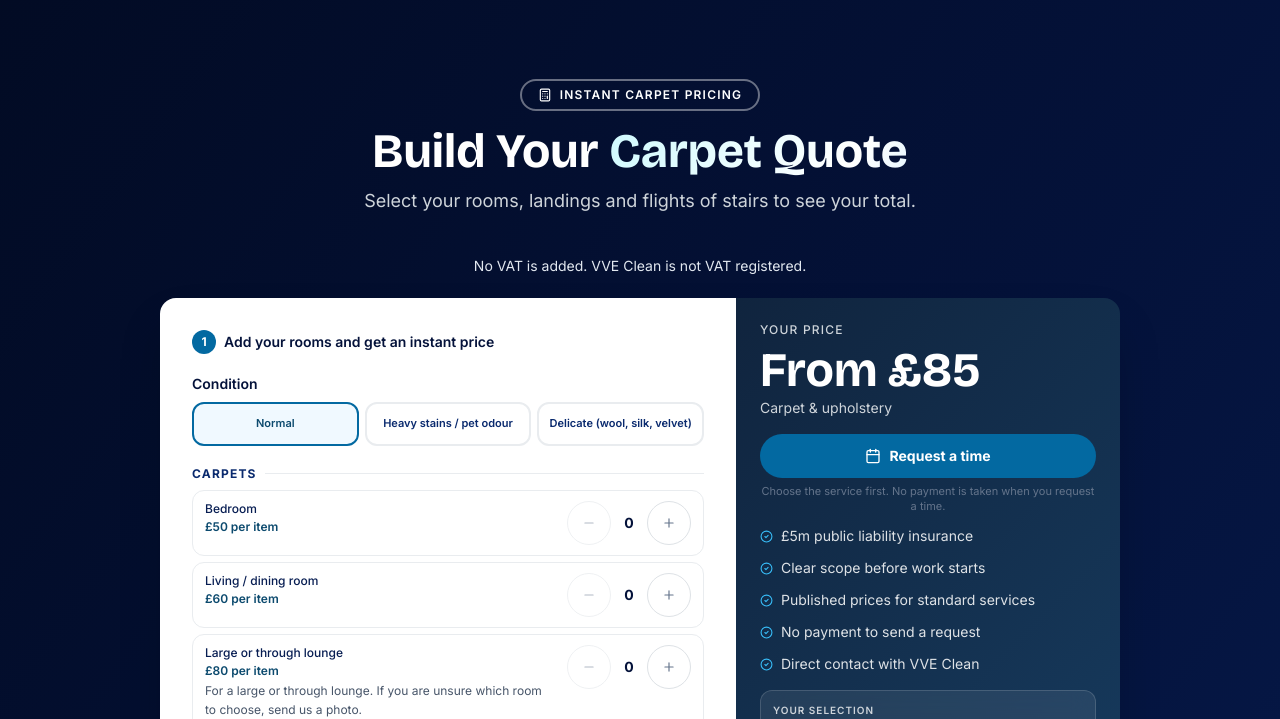
Test case: Trust beside the actual quote/request decision › shows carpet proof once items are selected, immediately before its action
This screenshot has width=1280, height=719.
Later steps or results of the test are not shown.
Click the button named "Increase Bedroom quantity".
click(669, 523)  # box [647,501,691,545]
(page scrolled)
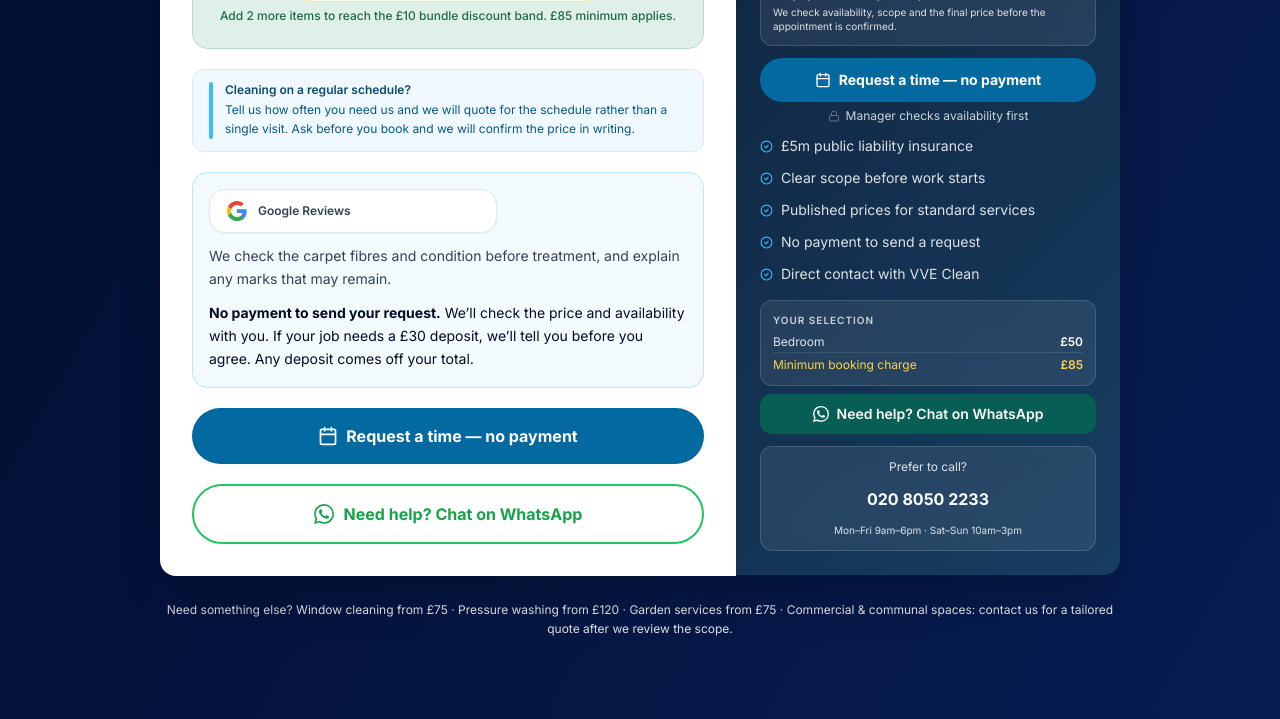
Expected: the element named "Before you send your request" shows "carpet fibres and condition", [209,247,680,287]
Expected: the button "Request a time — no payment" below "Google Reviews" is shown, [192,408,704,464]
